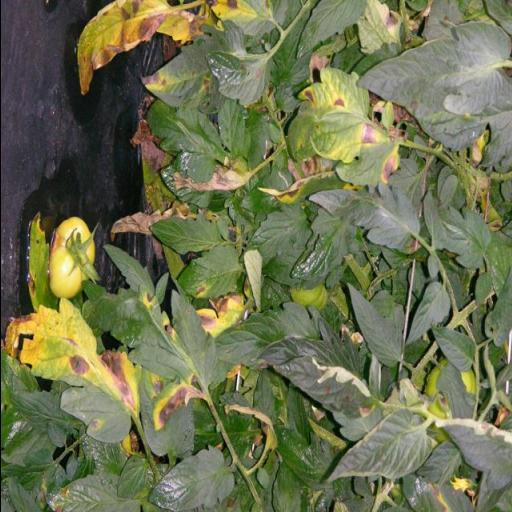Early Blight: (4, 298, 148, 442), (84, 290, 218, 432), (74, 0, 186, 96), (138, 18, 246, 116), (291, 66, 368, 170), (272, 354, 374, 420), (335, 123, 400, 187), (204, 50, 272, 106), (176, 245, 244, 299), (205, 0, 281, 39), (403, 473, 477, 512), (256, 171, 346, 203)
Healthy: (145, 446, 232, 512), (347, 284, 403, 368), (148, 212, 222, 254), (404, 282, 450, 346), (429, 322, 475, 372)
